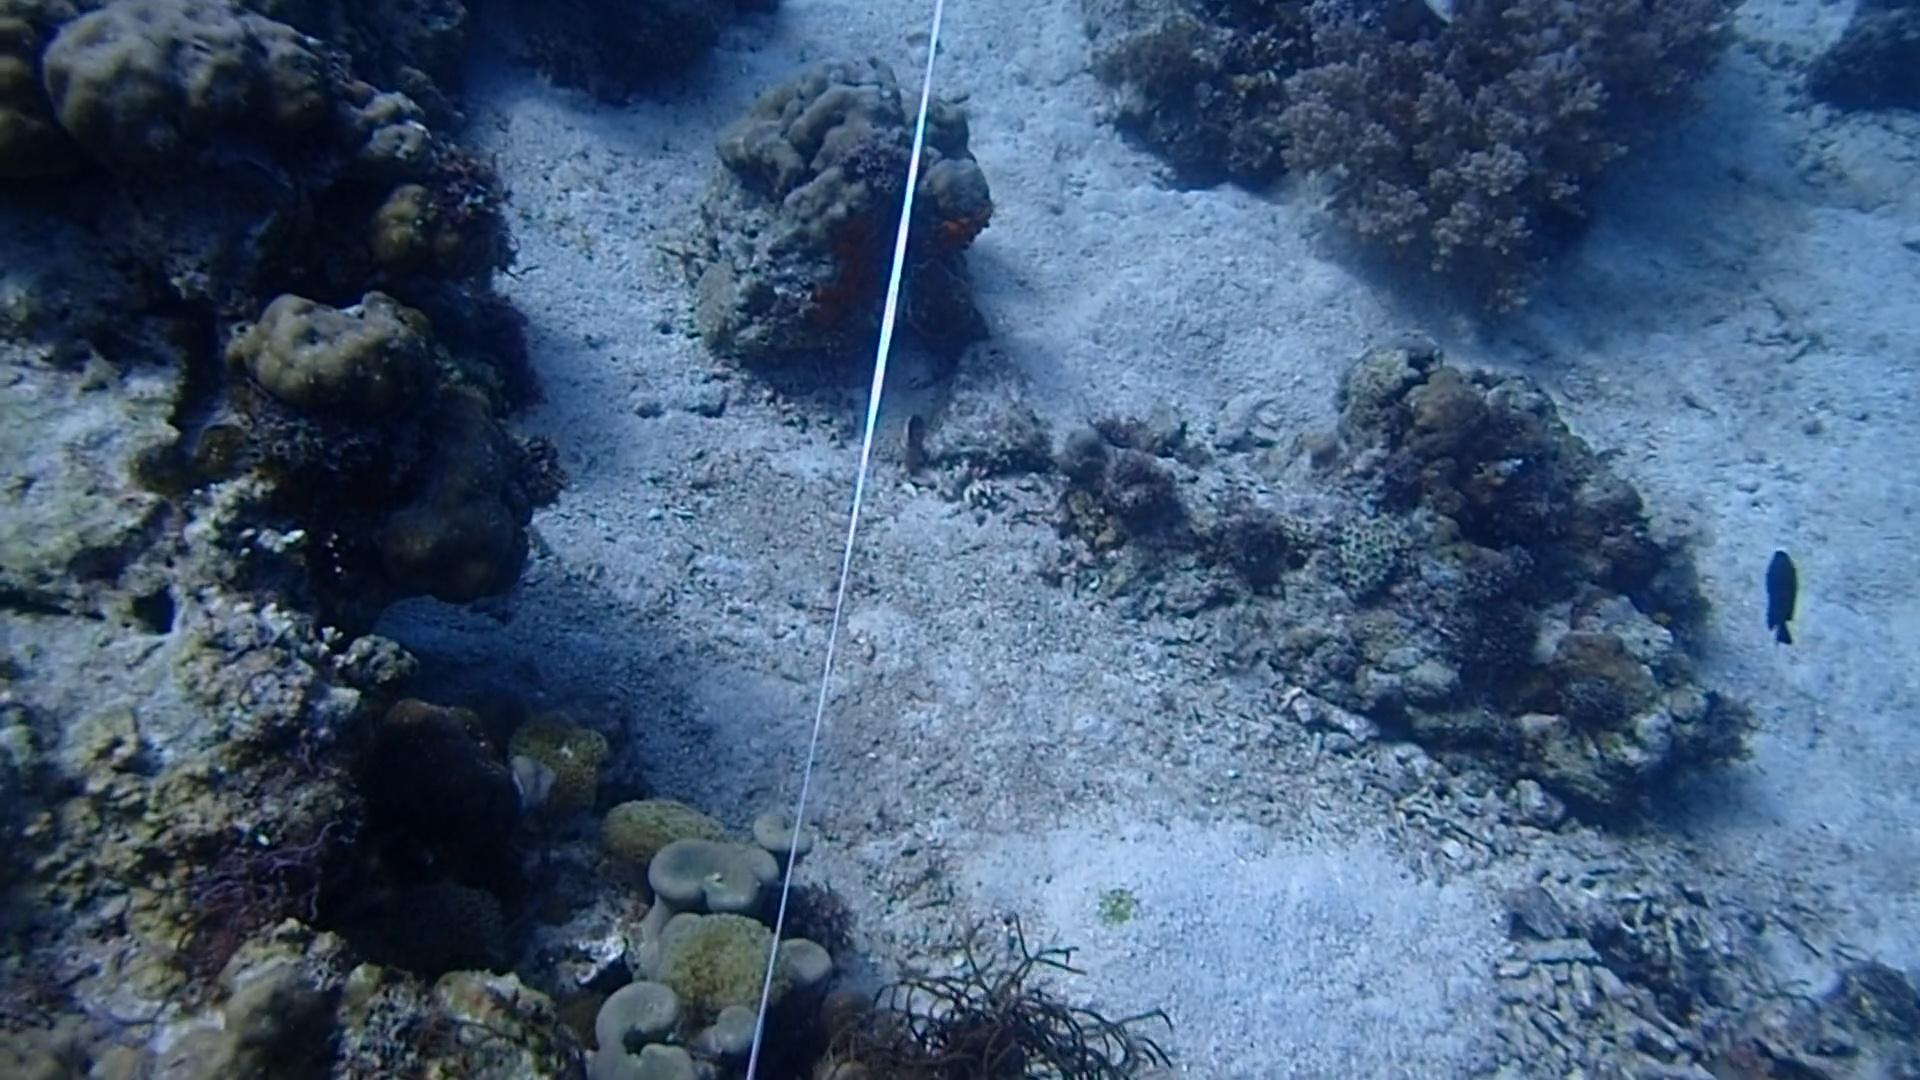Dark Fish: (1754, 545, 1812, 651)
